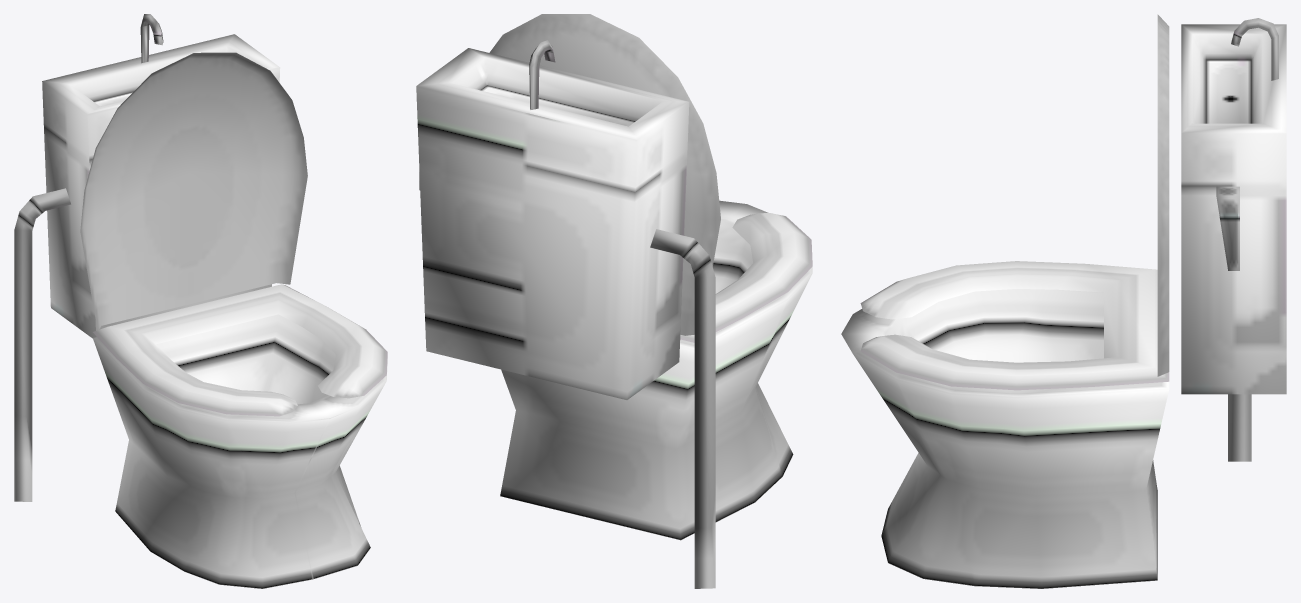
Rendered from rmk_oth_wc0_mtl.dae.
3 renders of one model, left to right at view 1: azimuth 30°, elevation 25°; view 2: azimuth 150°, elevation 25°; view 3: azimuth 270°, elevation 25°, orthographic. The views are drawn at different scales.
Parts seen in each view (by area): view 1: rmk_oth_wc0_mtl; view 2: rmk_oth_wc0_mtl; view 3: rmk_oth_wc0_mtl.
Boxes of the visible parts, x1,y1,x2,y2 form: rmk_oth_wc0_mtl: (14,14,387,588); rmk_oth_wc0_mtl: (416,14,812,588); rmk_oth_wc0_mtl: (841,14,1286,588).
Bounding box in the file's own units: 23.6 × 38.99 × 30.39.
2 materials, 2 textured.
